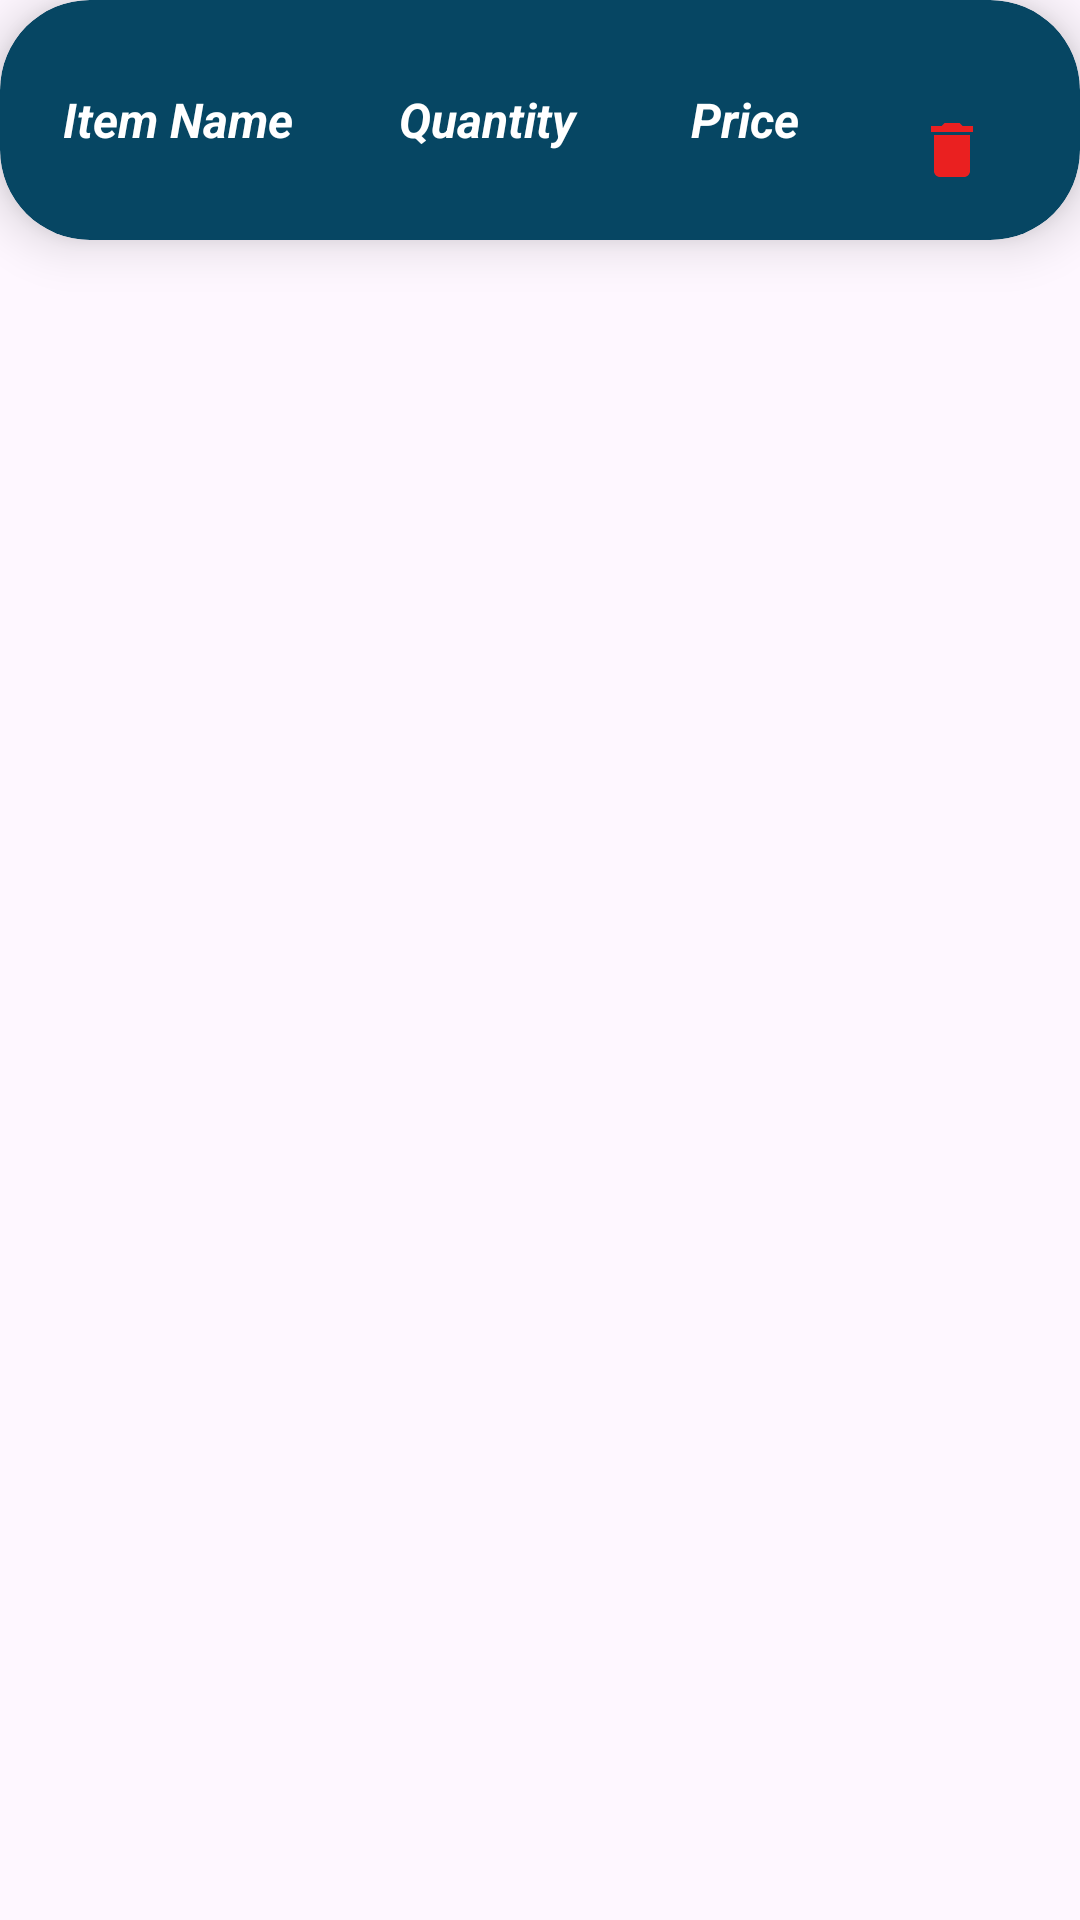

Where to tap for icons on this 1080w x 1920h app screen, as [x,y]:
delete: [952,150]
